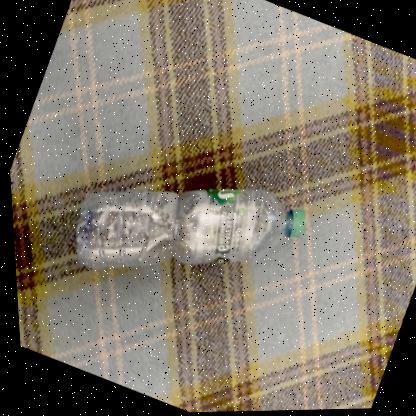Plastic: (71, 190, 301, 267)
